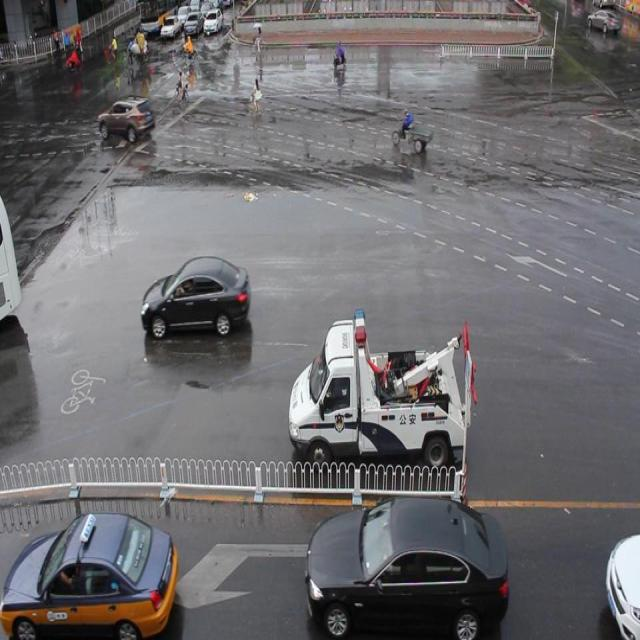bus: (288, 306, 475, 474)
car: (306, 494, 509, 640), (1, 511, 178, 640), (142, 256, 251, 337), (604, 527, 640, 640), (98, 97, 155, 142)
